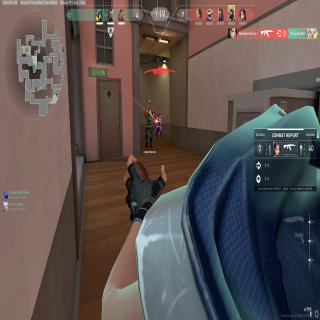ENEMY-HEAD: (158, 114, 160, 119)
